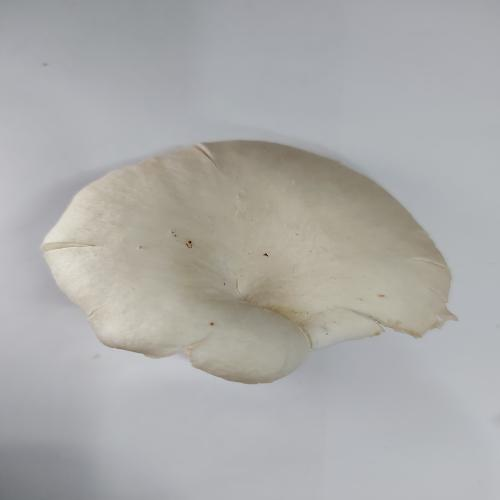Oyster Mushroom: (39, 139, 459, 386)
